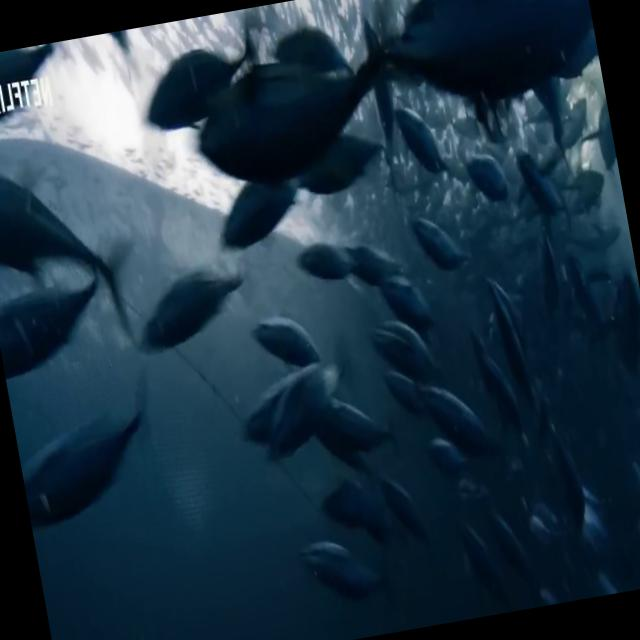fish: (182, 14, 408, 196), (355, 0, 606, 142), (0, 127, 134, 340), (134, 26, 270, 139)
